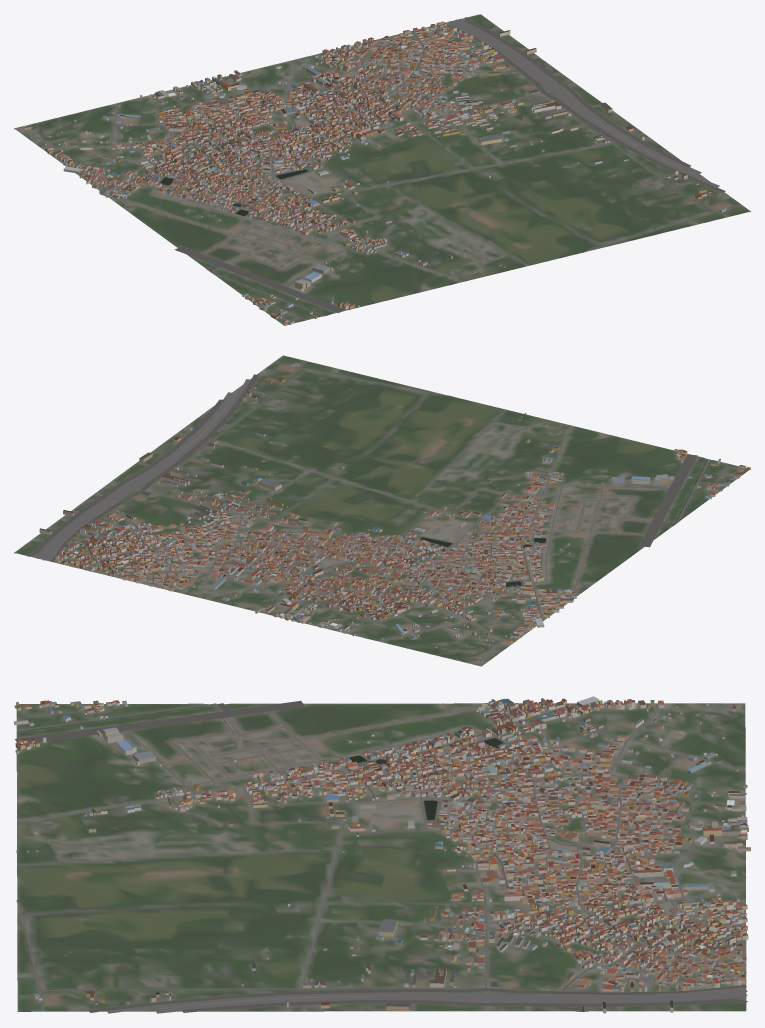
3 renders of one model, top to bottom at view 1: azimuth 30°, elevation 25°; view 2: azimuth 150°, elevation 25°; view 3: azimuth 270°, elevation 25°, orthographic. The views are drawn at different scales.
Visible parts, largest first — view 1: ground, buildings, roads; view 2: ground, buildings, roads; view 3: ground, buildings, roads, water.
Boxes of the visible parts, box(x1,y1,x2,y2) form: ground: box(14, 14, 750, 324); buildings: box(24, 21, 726, 325); roads: box(14, 17, 741, 320); ground: box(14, 355, 750, 666); buildings: box(39, 363, 750, 661); roads: box(26, 360, 733, 666); ground: box(16, 703, 746, 1011); buildings: box(14, 696, 750, 1013); roads: box(15, 700, 747, 1013); water: box(17, 704, 583, 1011).
Size of the model in its own units: 1432 by 20.24 by 1418.
